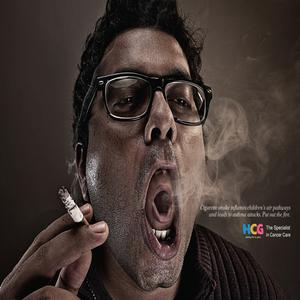cigarette: (56, 190, 88, 227)
